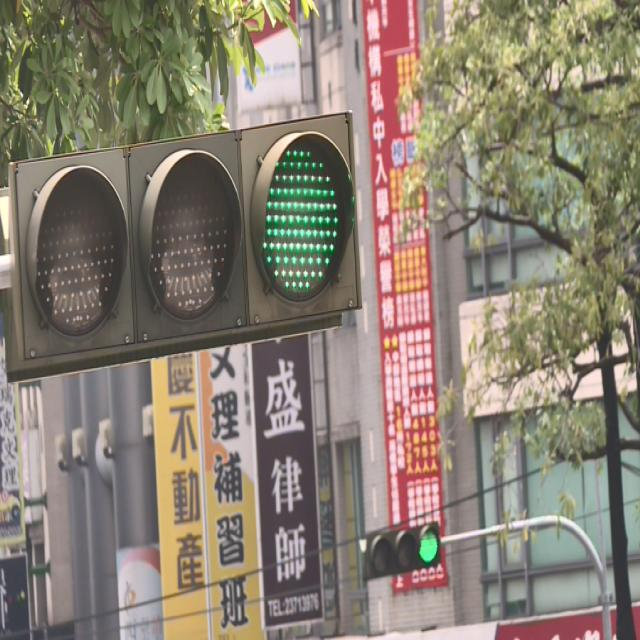green light: (10, 111, 362, 378), (366, 519, 442, 577)
